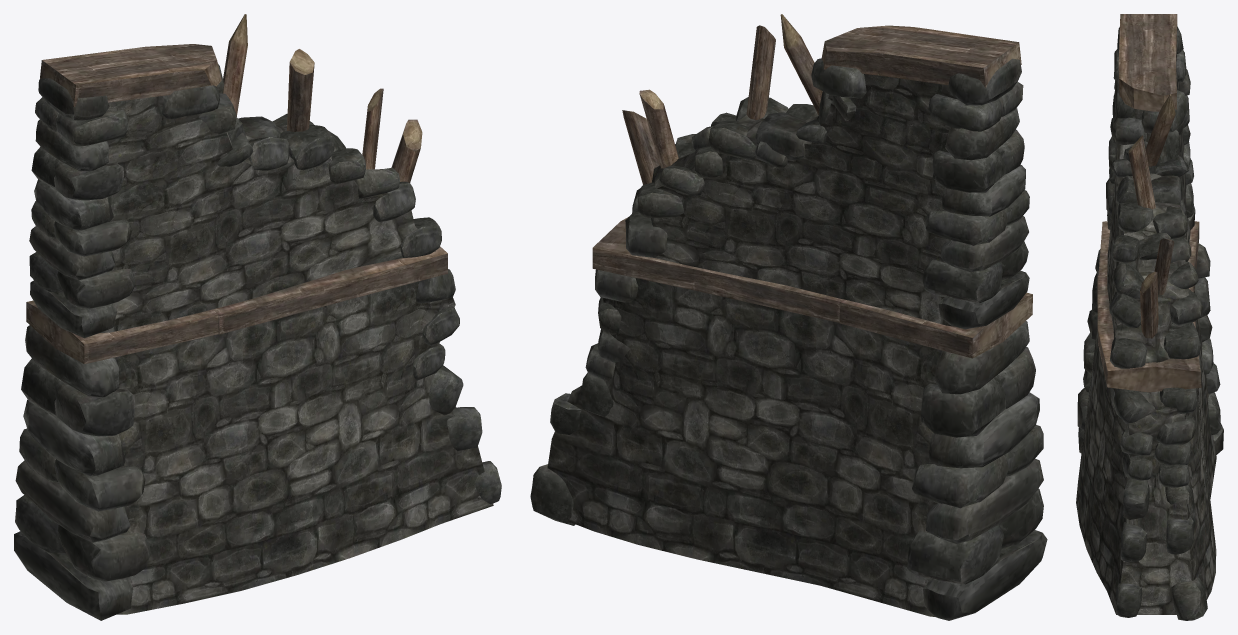
Rendered from jav_struc_def_stone_t2_wall_brkn_cb-transformed.glb.
The picture shows the model from 3 angles, left to right: view 1: azimuth 30°, elevation 25°; view 2: azimuth 150°, elevation 25°; view 3: azimuth 270°, elevation 25°; orthographic projection. The views are drawn at different scales.
Visible parts, largest first — view 1: default; view 2: default; view 3: default.
Boxes of the visible parts, x1,y1,x2,y2 form: default: (14, 14, 501, 620); default: (530, 14, 1047, 620); default: (1076, 14, 1223, 620).
Bounding box in the file's own units: 6.8 × 7.89 × 2.4.
Materials: 3 (3 with a texture image).
